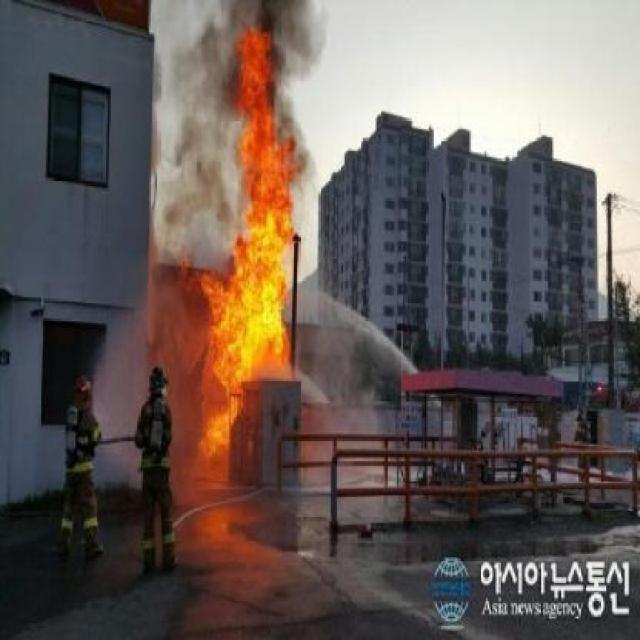Fire: (175, 38, 332, 498)
